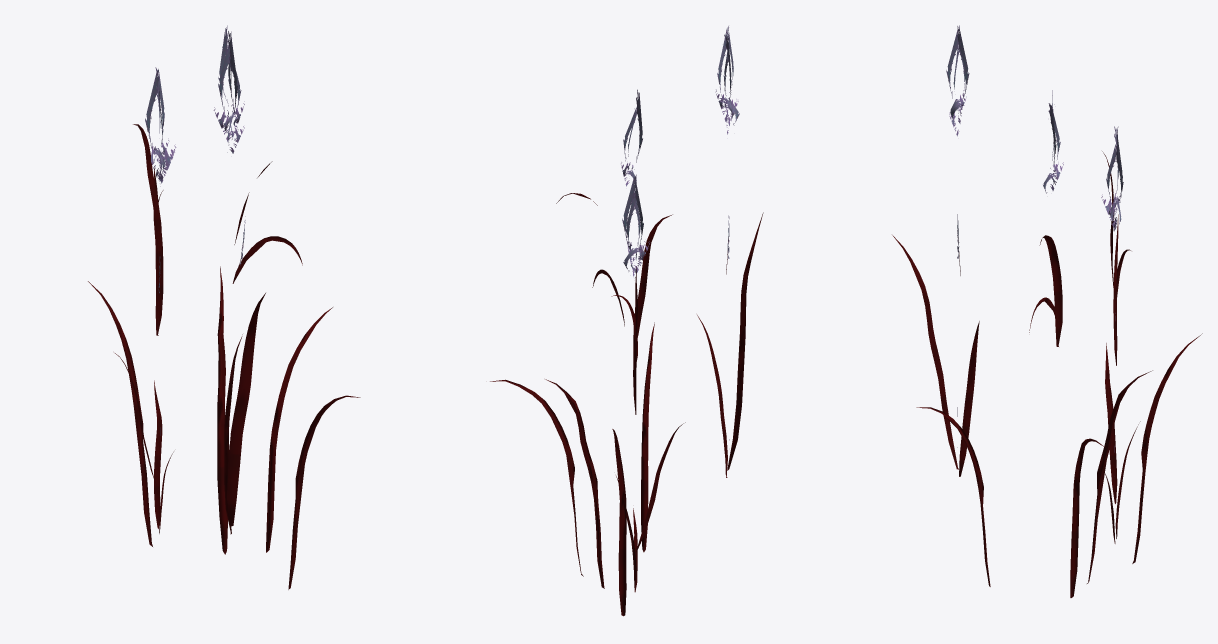
The picture shows the model from 3 angles, left to right: view 1: azimuth 30°, elevation 25°; view 2: azimuth 150°, elevation 25°; view 3: azimuth 270°, elevation 25°; orthographic projection. The views are drawn at different scales.
Visible parts, largest first — view 1: SM_GF_LongSeededGrass_02_LOD0; view 2: SM_GF_LongSeededGrass_02_LOD0; view 3: SM_GF_LongSeededGrass_02_LOD0.
Part boxes in pixels (x1,y1,x2,y2): SM_GF_LongSeededGrass_02_LOD0: [88, 25, 360, 589]; SM_GF_LongSeededGrass_02_LOD0: [490, 26, 763, 616]; SM_GF_LongSeededGrass_02_LOD0: [892, 25, 1202, 597].
Bounding box in the file's own units: 0.8527 × 1.38 × 0.7932.
Materials: 1 (1 with a texture image).
